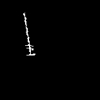treble_crochet: (23, 14, 34, 54)
